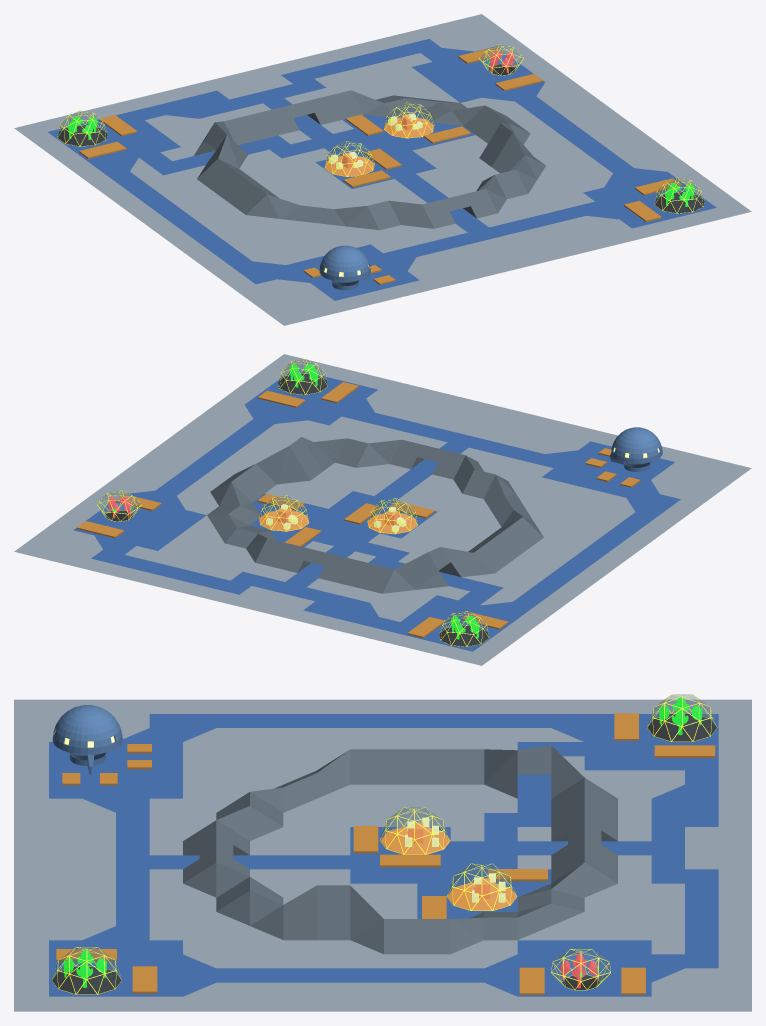
File: ShinyPath_04.glb
The picture shows the model from 3 angles, top to bottom: view 1: azimuth 30°, elevation 25°; view 2: azimuth 150°, elevation 25°; view 3: azimuth 270°, elevation 25°; orthographic projection. The views are drawn at different scales.
Parts seen in each view (by area): view 1: ShinyBlue.002, ShinyBlue, RingWall, VehicleBay, IceMine2, GreenPlant2, GreenPlants1, IceMine1, ChargingStation; view 2: ShinyBlue.002, ShinyBlue, RingWall, VehicleBay, IceMine1, IceMine2, GreenPlant2, GreenPlants1, ChargingStation; view 3: ShinyBlue.002, ShinyBlue, RingWall, VehicleBay, IceMine1, GreenPlant2, GreenPlants1, IceMine2, ChargingStation, Cube.007, Cube.005, Cube.002 (+7 smaller).
Boxes of the visible parts, <box> form: ShinyBlue.002: <box>14,14,751,325</box>; ShinyBlue: <box>48,39,716,300</box>; RingWall: <box>194,90,545,230</box>; VehicleBay: <box>319,245,370,290</box>; IceMine2: <box>384,102,434,138</box>; GreenPlant2: <box>57,110,107,146</box>; GreenPlants1: <box>654,177,704,213</box>; IceMine1: <box>324,141,374,176</box>; ChargingStation: <box>479,44,523,75</box>; ShinyBlue.002: <box>14,354,751,665</box>; ShinyBlue: <box>73,370,680,651</box>; RingWall: <box>207,437,543,593</box>; VehicleBay: <box>610,427,662,471</box>; IceMine1: <box>367,498,417,534</box>; IceMine2: <box>258,495,309,531</box>; GreenPlant2: <box>439,611,489,646</box>; GreenPlants1: <box>278,358,327,394</box>; ChargingStation: <box>97,490,141,521</box>; ShinyBlue.002: <box>14,699,751,1011</box>; ShinyBlue: <box>49,714,718,996</box>; RingWall: <box>183,745,617,954</box>; VehicleBay: <box>52,705,122,774</box>; IceMine1: <box>379,807,450,854</box>; GreenPlant2: <box>647,694,717,741</box>; GreenPlants1: <box>52,947,121,994</box>; IceMine2: <box>447,863,517,910</box>; ChargingStation: <box>551,949,610,990</box>; Cube.007: <box>380,854,440,867</box>; Cube.005: <box>654,745,715,757</box>; Cube.002: <box>132,966,157,993</box>.
Size of the model in its own units: 21 by 1.58 by 21.
